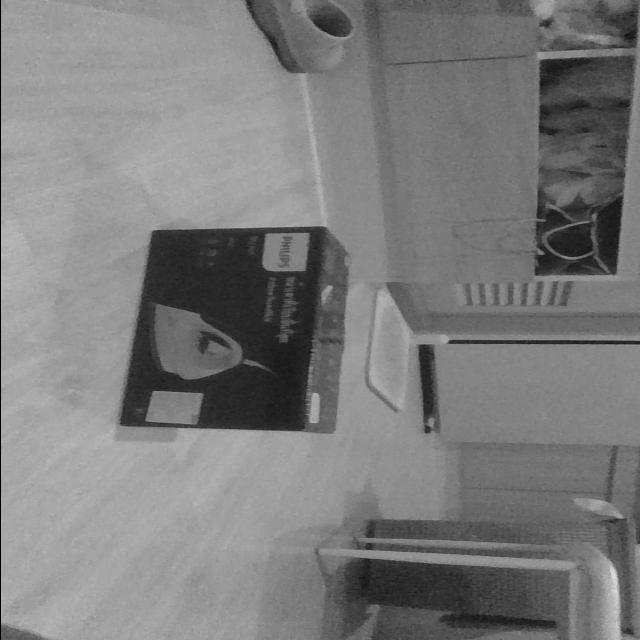IRON: (114, 224, 353, 436)
